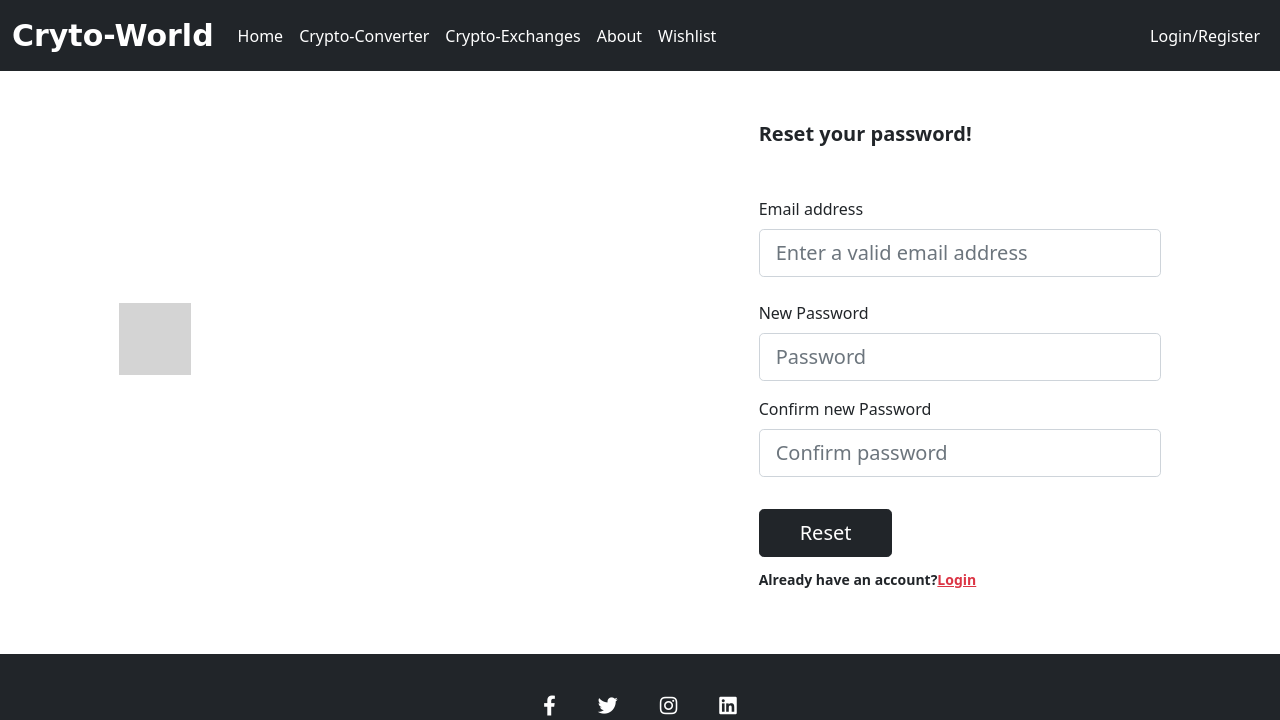
Test: Crypto World e2e testing › Should check for reset email not exist
Type "tarun9121349@gmail.com" into the field with id "resetemail". click: (961, 253)
box: [759, 229, 1162, 277]
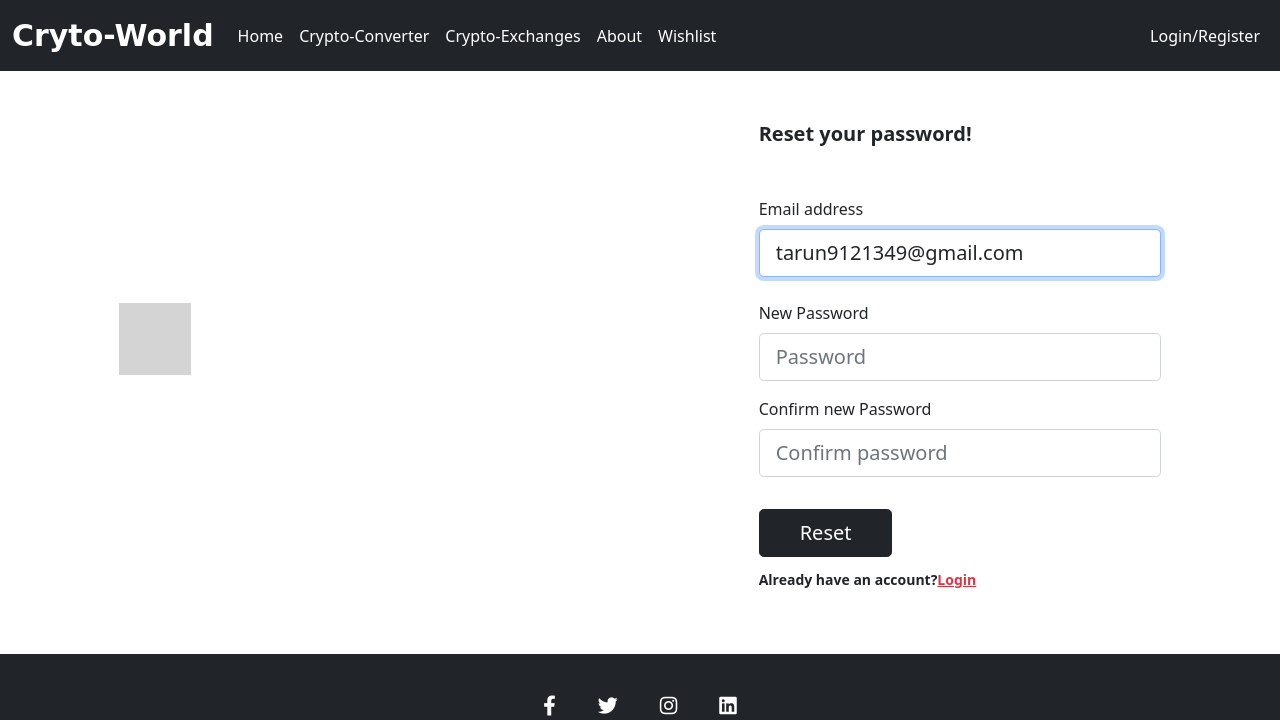
Type "123456" into the password field with id "newpass". click: (961, 357)
box: [759, 333, 1162, 381]
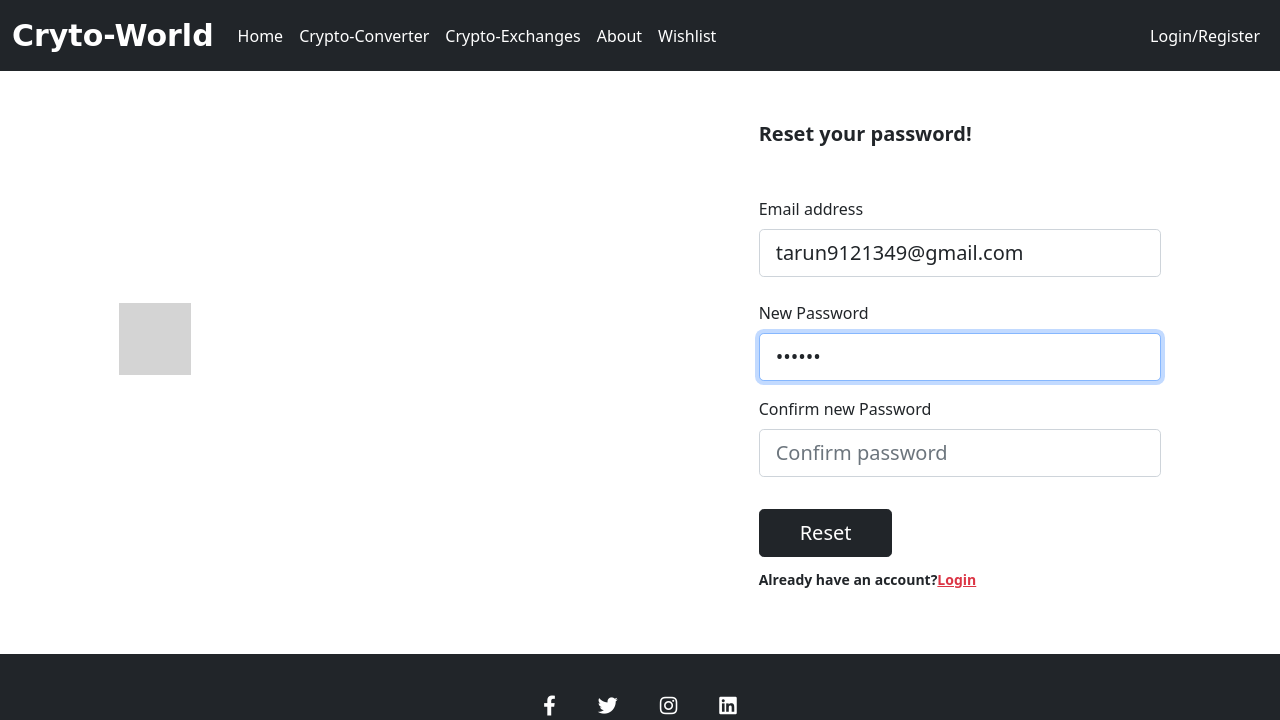
Type "123456" into the password field with id "newconfirmpass". click: (961, 453)
box: [759, 429, 1162, 477]
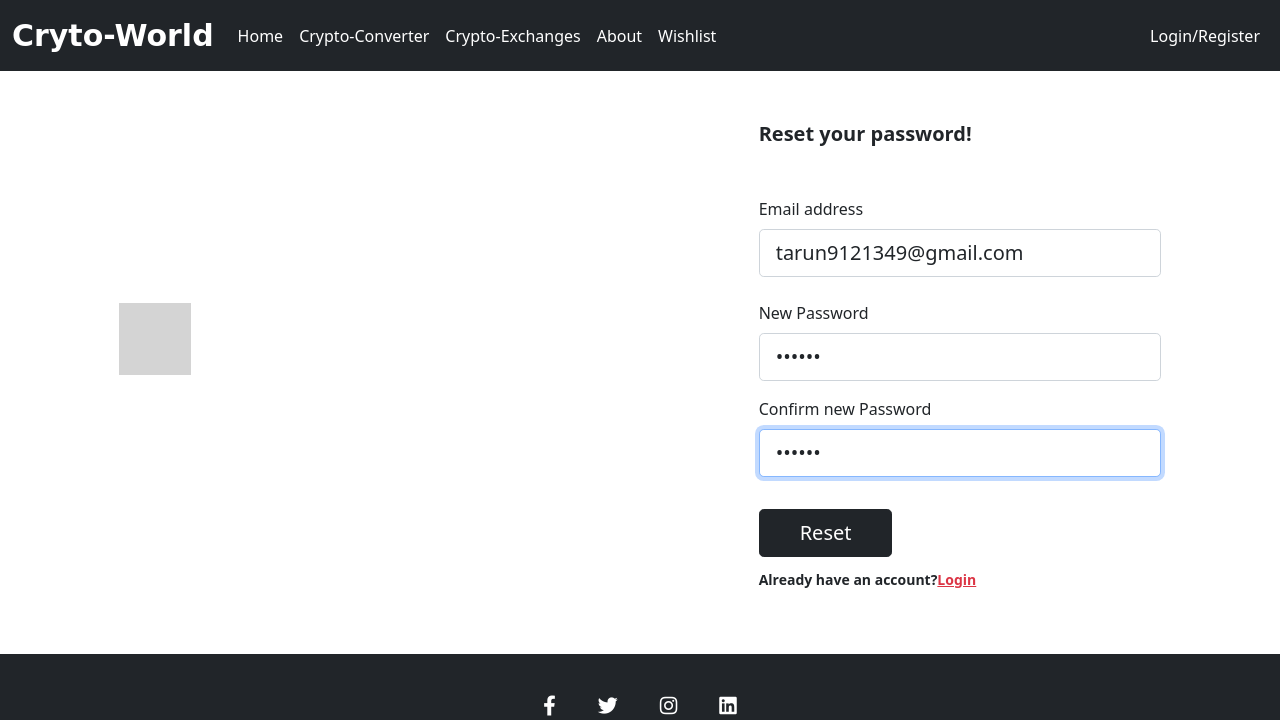
Click the button with id "resetbtn". click: click(826, 533)
box: [759, 509, 893, 557]
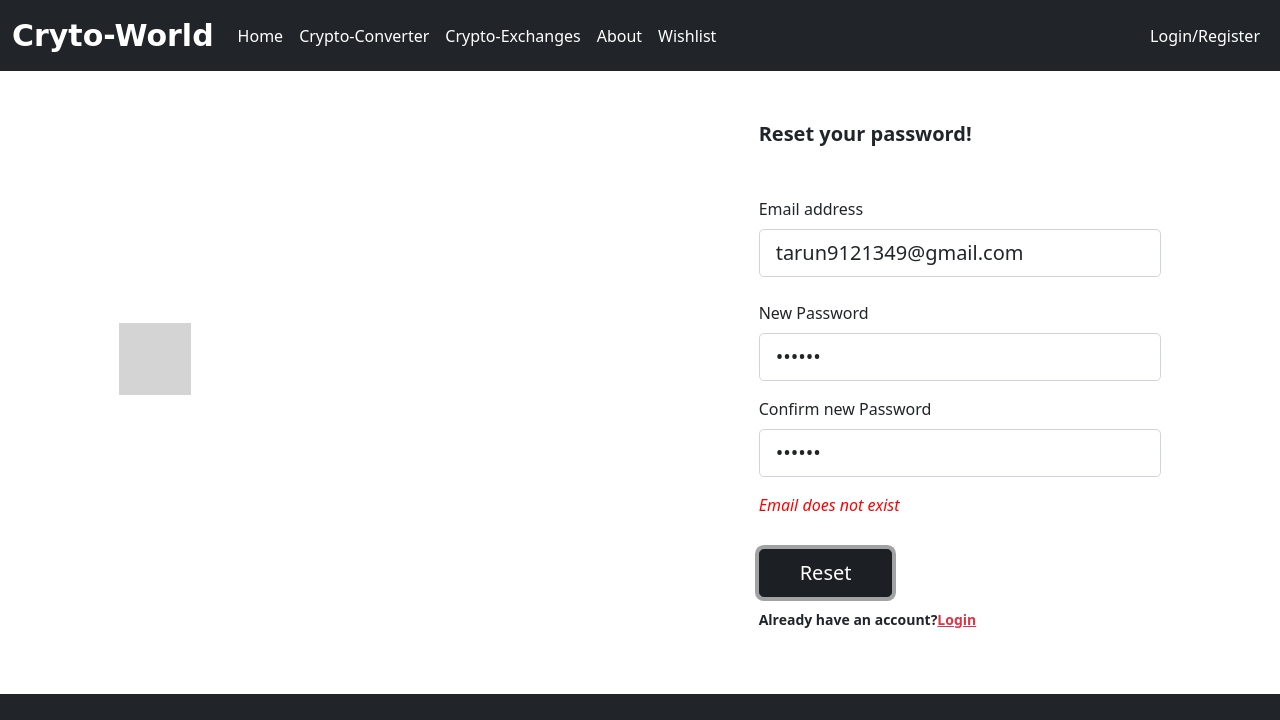
Check: the text with id "emailnot" reads "Email does not exist", box [759, 494, 900, 516]
